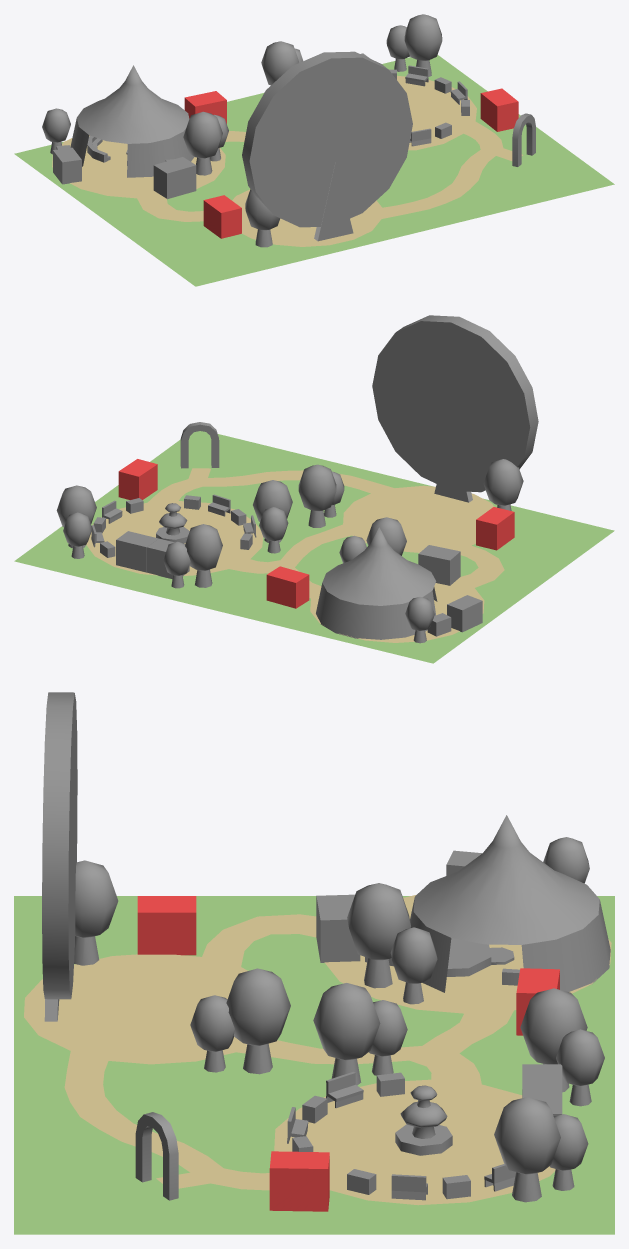
File: openlevel(1).fbx
The picture shows the model from 3 angles, top to bottom: view 1: azimuth 30°, elevation 25°; view 2: azimuth 150°, elevation 25°; view 3: azimuth 270°, elevation 25°; orthographic projection. The views are drawn at different scales.
Visible parts, largest first — view 1: Quad, Cylinder010, Cylinder012, Cylinder008, Box046, Cylinder011, Sphere003, Sphere008, Box045, Box043, Sphere001, Box047 (+6 smaller); view 2: Quad, Cylinder010, Cylinder012, Cylinder008, Box044, Sphere012, Sphere007, Box045, Box043, Sphere001, Box046, Box040 (+11 smaller); view 3: Quad, Cylinder012, Cylinder008, Cylinder010, Sphere003, Sphere005, Sphere012, Box043, Sphere008, Box045, Sphere001, Sphere007 (+18 smaller).
Boxes of the visible parts, left/top/right/bottom form: Quad: left=14, top=55, right=614, bottom=286; Cylinder010: left=242, top=51, right=412, bottom=227; Cylinder012: left=52, top=75, right=522, bottom=246; Cylinder008: left=70, top=65, right=194, bottom=177; Box046: left=153, top=157, right=196, bottom=199; Cylinder011: left=314, top=162, right=353, bottom=241; Sphere003: left=404, top=14, right=442, bottom=60; Sphere008: left=183, top=111, right=222, bottom=158; Box045: left=203, top=195, right=241, bottom=238; Box043: left=480, top=88, right=518, bottom=131; Sphere001: left=261, top=41, right=298, bottom=85; Box047: left=53, top=147, right=81, bottom=184; Quad: left=14, top=431, right=614, bottom=663; Cylinder010: left=372, top=315, right=538, bottom=492; Cylinder012: left=86, top=468, right=504, bottom=642; Cylinder008: left=316, top=527, right=437, bottom=639; Box044: left=266, top=566, right=309, bottom=608; Sphere012: left=298, top=464, right=336, bottom=511; Sphere007: left=483, top=459, right=523, bottom=505; Box045: left=476, top=507, right=514, bottom=550; Box043: left=118, top=459, right=157, bottom=499; Sphere001: left=185, top=524, right=222, bottom=570; Box046: left=418, top=545, right=460, bottom=585; Box040: left=116, top=531, right=158, bottom=572; Quad: left=14, top=896, right=614, bottom=1234; Cylinder012: left=24, top=895, right=611, bottom=1205; Cylinder008: left=410, top=815, right=610, bottom=992; Cylinder010: left=42, top=692, right=77, bottom=999; Sphere003: left=494, top=1097, right=560, bottom=1174; Sphere005: left=313, top=983, right=380, bottom=1060; Sphere012: left=226, top=968, right=290, bottom=1045; Box043: left=269, top=1151, right=329, bottom=1211; Sphere008: left=347, top=883, right=410, bottom=960; Box045: left=137, top=896, right=196, bottom=955; Sphere001: left=520, top=988, right=587, bottom=1064; Sphere007: left=75, top=860, right=118, bottom=937.
Size of the model in its own units: 1577 by 666 by 1181.
